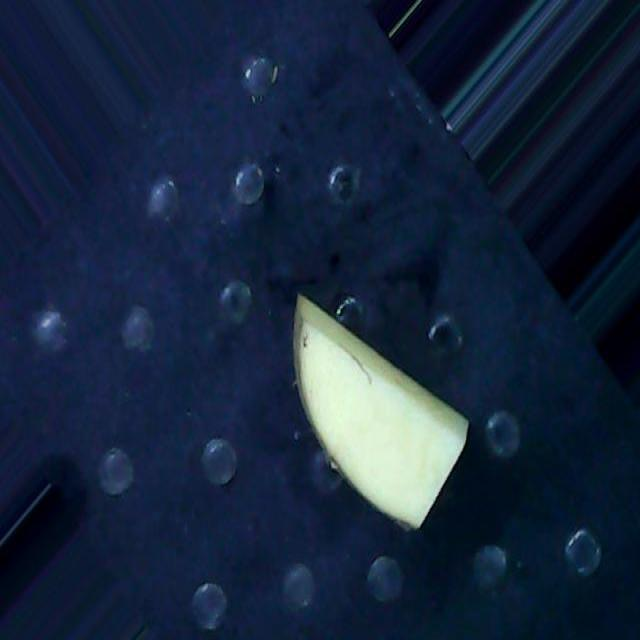-Kitchen waste - potato-: (287, 294, 472, 532)
